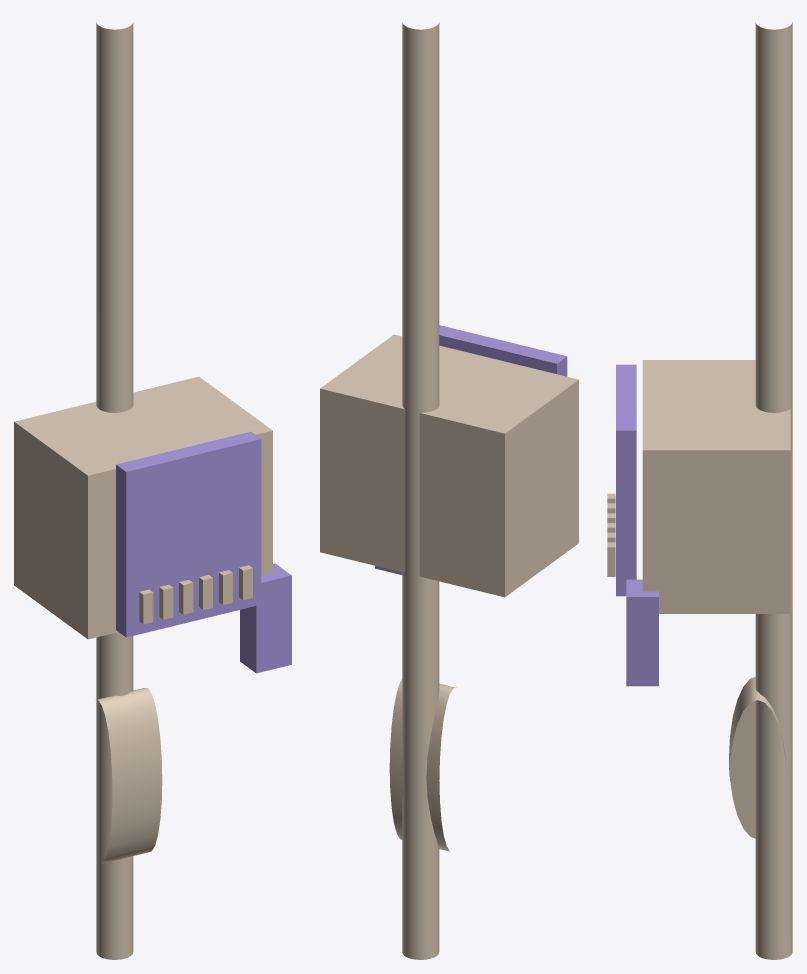
File: meter.gltf
3 views of the same model, side by side, from view 1: azimuth 30°, elevation 25°; view 2: azimuth 150°, elevation 25°; view 3: azimuth 270°, elevation 25° (orthographic).
Parts seen in each view (by area): view 1: meter, pipe, dial, valve, index, seal; view 2: meter, pipe, valve, dial; view 3: meter, pipe, dial, valve, seal, index.
Boxes of the visible parts, left/top/right/bottom form: meter: left=14, top=376, right=272, bottom=639; pipe: left=96, top=22, right=133, bottom=959; dial: left=116, top=431, right=261, bottom=581; valve: left=96, top=688, right=162, bottom=863; index: left=116, top=557, right=261, bottom=637; seal: left=240, top=563, right=291, bottom=673; meter: left=320, top=334, right=578, bottom=597; pipe: left=402, top=22, right=439, bottom=959; valve: left=389, top=679, right=456, bottom=851; dial: left=439, top=325, right=567, bottom=376; meter: left=642, top=360, right=790, bottom=613; pipe: left=755, top=22, right=792, bottom=959; dial: left=616, top=364, right=636, bottom=549; valve: left=729, top=676, right=786, bottom=838; seal: left=626, top=579, right=658, bottom=686; index: left=616, top=549, right=636, bottom=596.
Bounding box in the file's own units: 0.275 × 1.25 × 0.2255.
